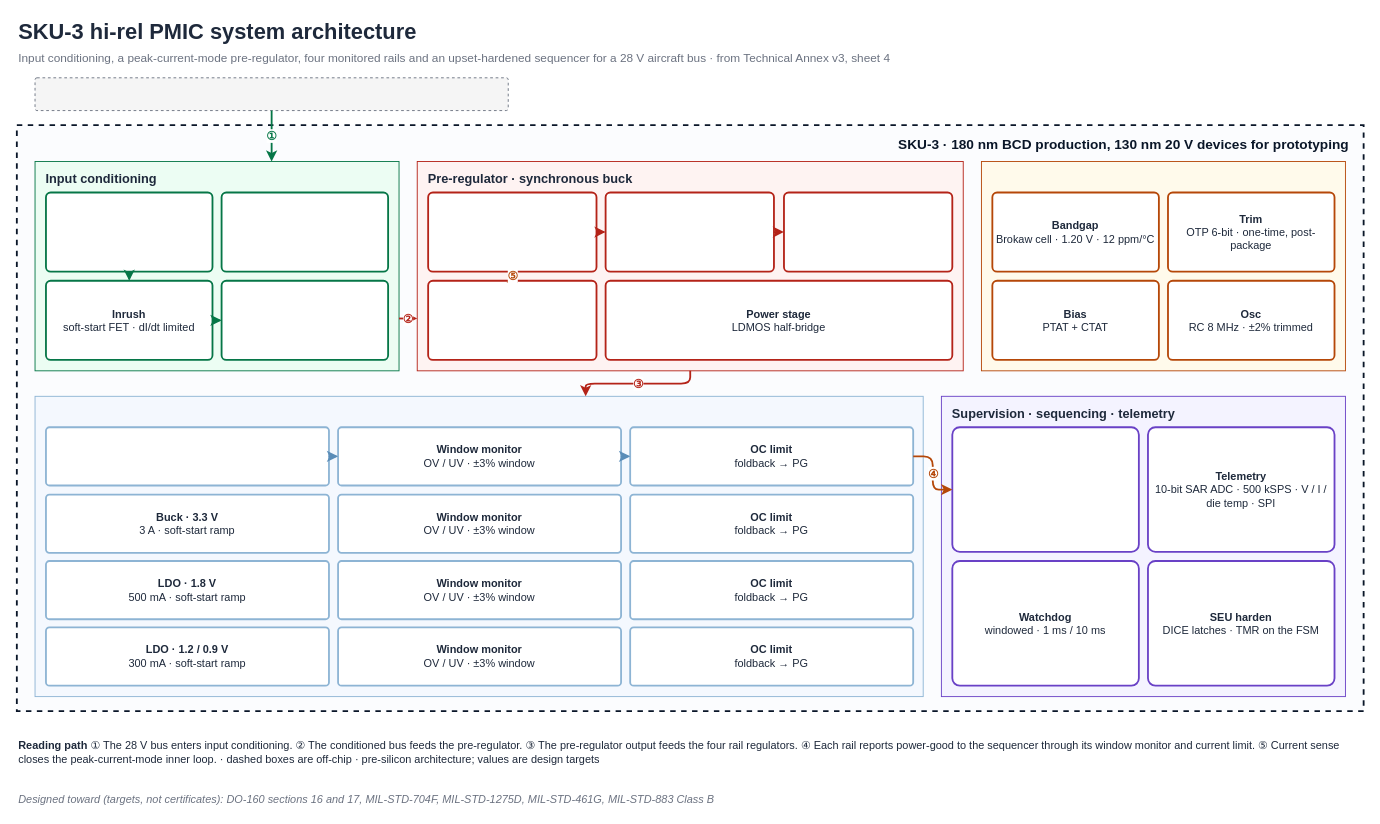
Some shapes in this 1380 by 824 pixel diagram are drawn without their labels. Each missing label, with the box of its shape:
28 V aircraft bus: (34, 77, 508, 111)
Buck · 5 V 2 A · soft-start ramp: (45, 426, 329, 486)
Current sense sense-FET + amp · cycle-by-cycle limit: (427, 279, 597, 360)
EMI + TVS CM choke + pi · clamp 36 V: (45, 191, 213, 272)
Error amp type-III comp · 60 dB DC: (427, 191, 597, 272)
Gate driver adaptive dead-time · 20 ns non-overlap: (783, 191, 953, 272)
Ideal diode reverse polarity · back-to-back LDMOS: (220, 191, 389, 272)
PWM comp + slope comp · 500 kHz to 2 MHz: (604, 191, 774, 272)
Rail generation: (34, 395, 923, 697)
Reference + bias: (981, 161, 1345, 371)
Sequencer programmable 4-step order · FSM + delay counter · TMR: (951, 426, 1139, 552)
UVLO + OVLO 18 V / 34 V · hysteretic: (220, 279, 389, 360)
